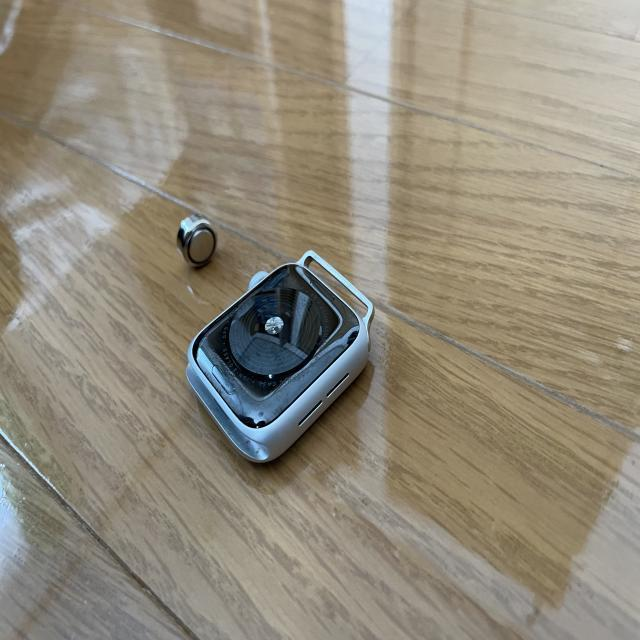COIN: (177, 213, 217, 270)
